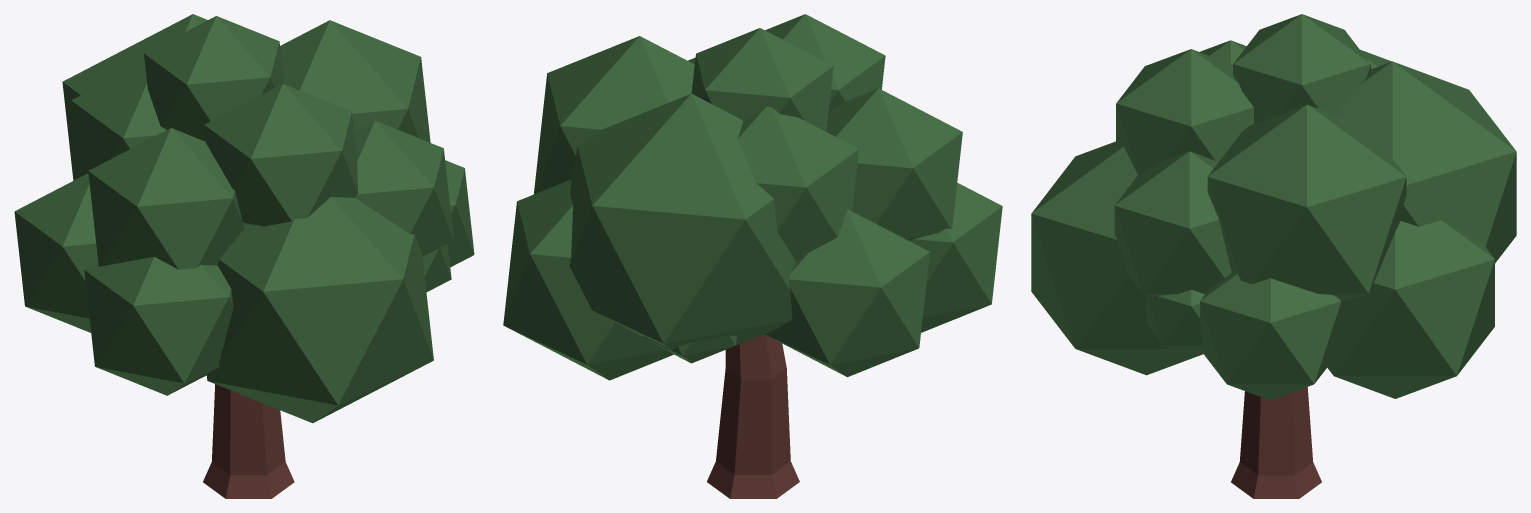
The model's file is XTree.fbx.
3 renders of one model, left to right at view 1: azimuth 30°, elevation 25°; view 2: azimuth 150°, elevation 25°; view 3: azimuth 270°, elevation 25°, orthographic. The views are drawn at different scales.
Visible parts, largest first — view 1: Circle; view 2: Circle; view 3: Circle.
Part boxes in pixels (box(x1,y1,x2,y2)): Circle: box(14, 14, 474, 498); Circle: box(503, 14, 1002, 498); Circle: box(1031, 14, 1516, 498).
Size of the model in its own units: 3149 by 3408 by 3266.
